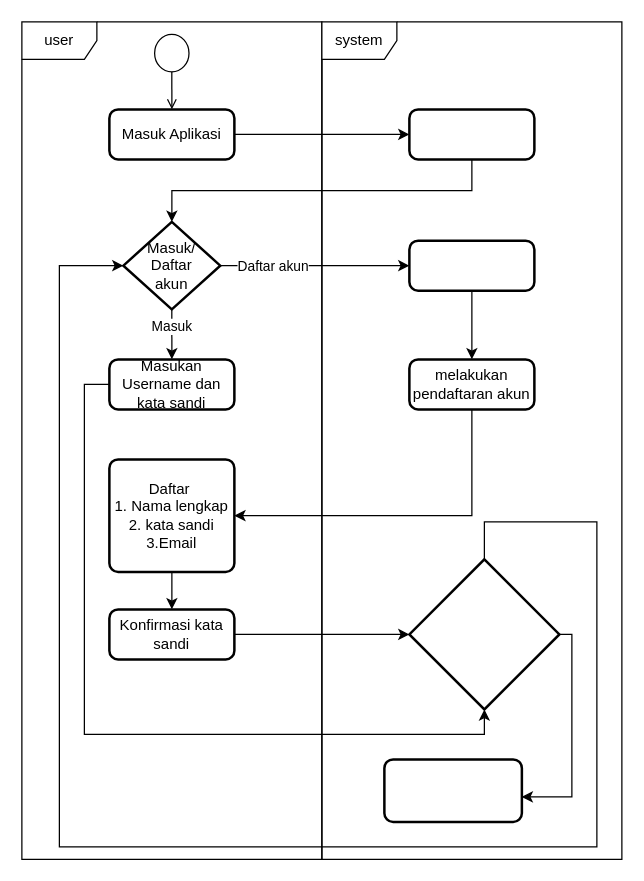
The diagram is 644 pixels wide and 881 high, and some of its shapes have lost their labels. The shapes that lost their labels are listed below. From the top down, each one's centre as x and y in pixels, then its label:
At pixel 471 134: "Tampilan display".
At pixel 471 265: "Menampilkan Halaman Daftar Akun".
At pixel 484 634: "Kata sandi yg di masukan salah/benar".
At pixel 452 790: "menampilkan halaman profil akun".
